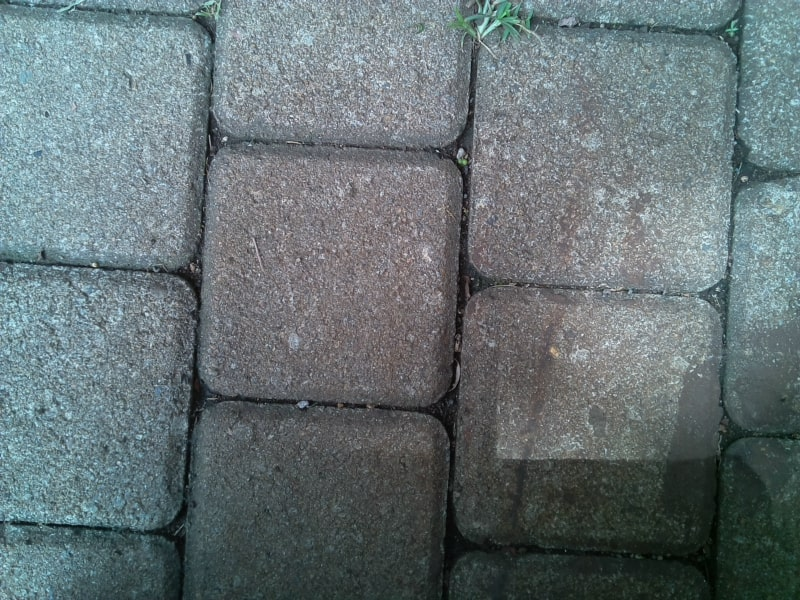Weed: (455, 5, 533, 42), (200, 1, 227, 22)
